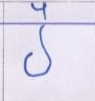ai_matra: (32, 2, 52, 21)
